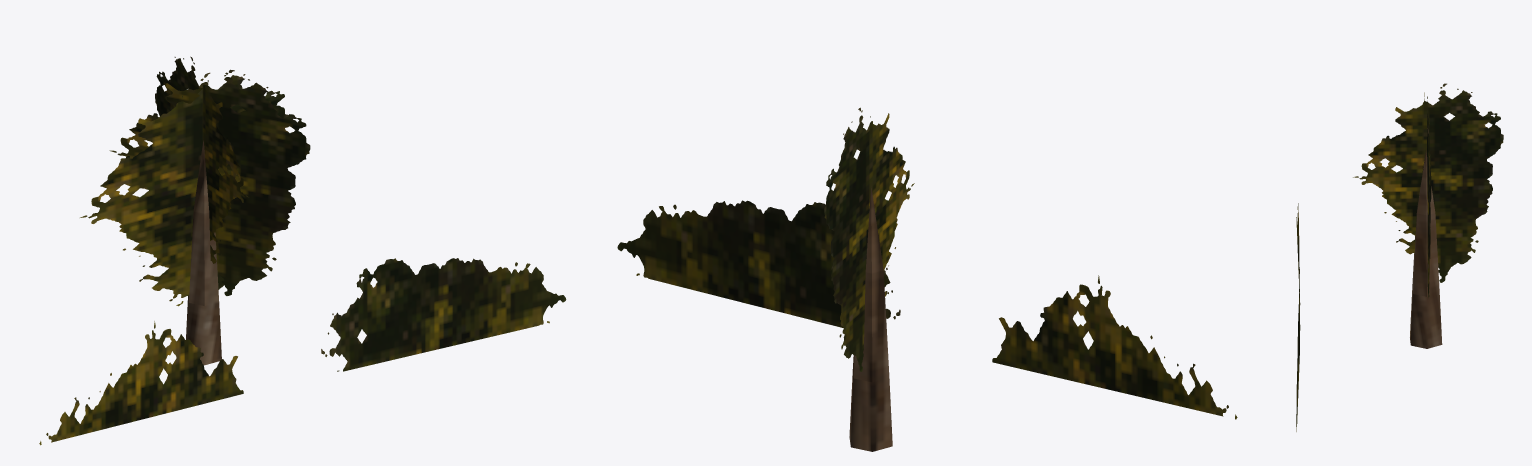
File: tree_001.fbx
3 views of the same model, side by side, from view 1: azimuth 30°, elevation 25°; view 2: azimuth 150°, elevation 25°; view 3: azimuth 270°, elevation 25° (orthographic). The views are drawn at different scales.
Parts seen in each view (by area): view 1: tree_001, bush_002, bush_001; view 2: bush_002, tree_001, bush_001; view 3: tree_001, bush_002.
Boxes of the visible parts, x1,y1,x2,y2 form: tree_001: [80, 56, 310, 365]; bush_002: [321, 258, 566, 371]; bush_001: [39, 321, 243, 445]; bush_002: [617, 200, 900, 328]; tree_001: [824, 107, 914, 451]; bush_001: [992, 275, 1237, 419]; tree_001: [1353, 83, 1503, 348]; bush_002: [1296, 283, 1300, 431].
Size of the model in its own units: 83.31 by 43.41 by 32.26.
